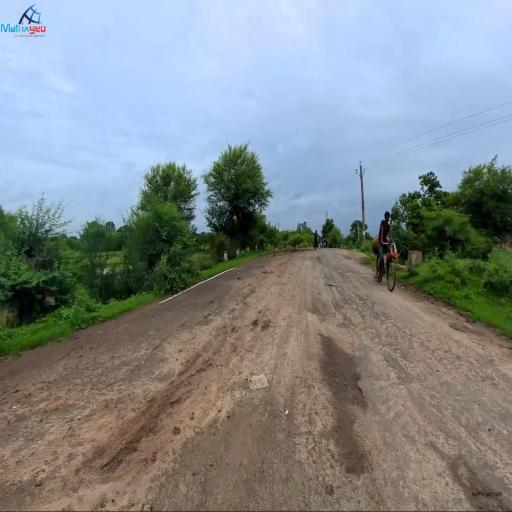ravelling: (317, 295, 435, 464)
